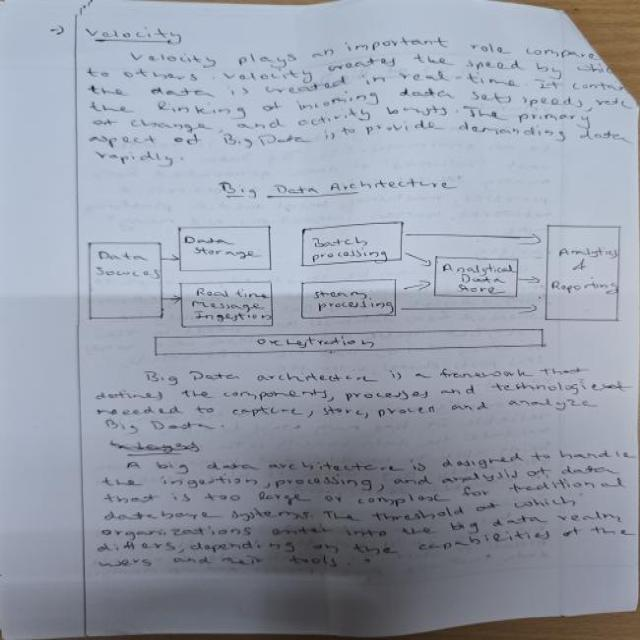Figure Detection - v3 Dataset Version2: (83, 218, 637, 355)
